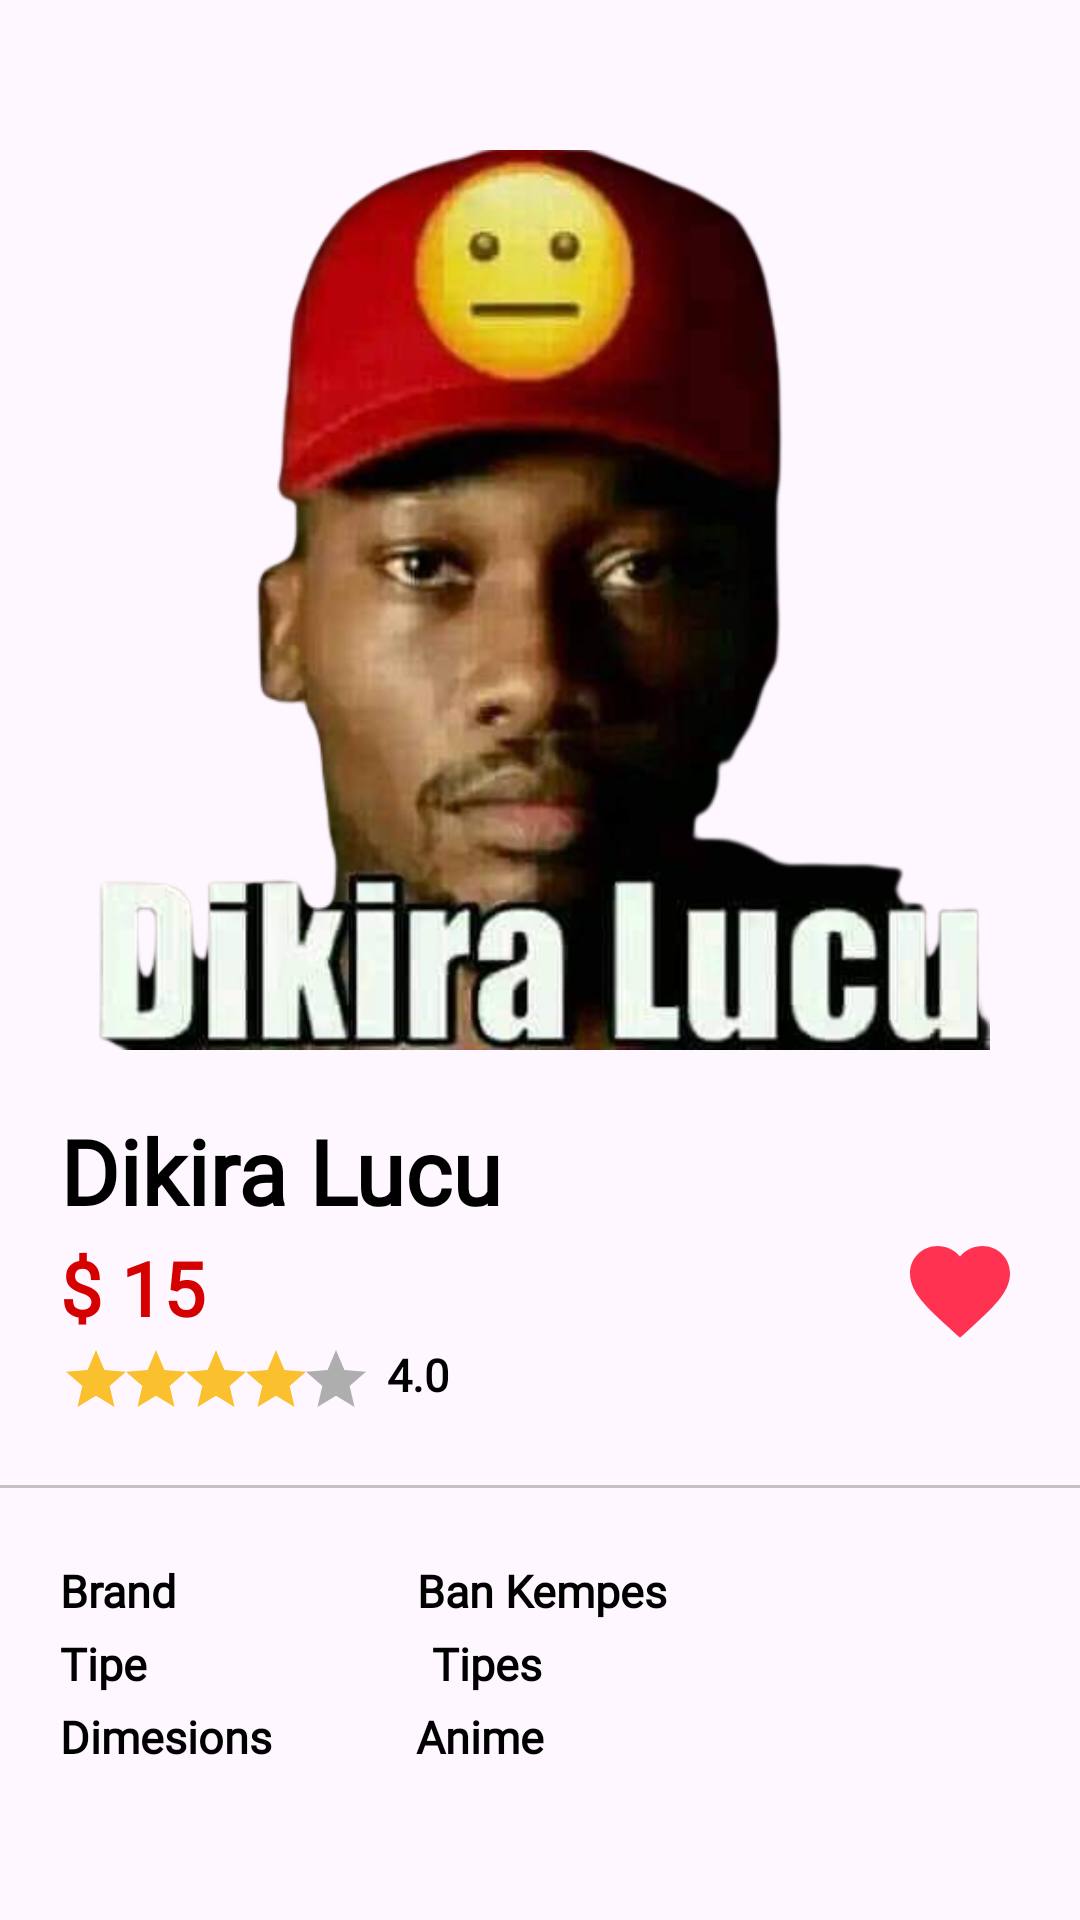

Named icons in this screenshot (1080×1920) and their centers, (x,y):
favorite: (960,1292)
star: (99,1378), (156,1378), (216,1378), (276,1378), (336,1379)
